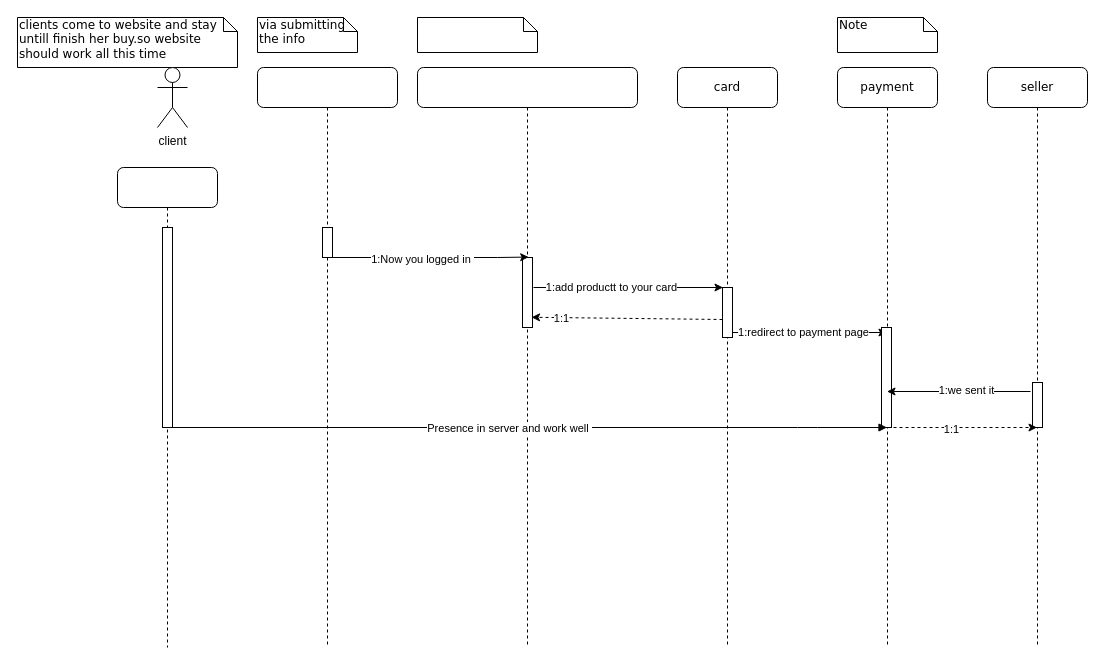
Image size: 1105x665. Some labels were removed from this diagram. Here are the shapes that lost their labels. From the top down, the box of each, then its label:
(416, 16, 538, 52): back to website and then
(256, 66, 398, 648): sign up
(416, 66, 638, 648): Product List
(116, 166, 218, 648): website
